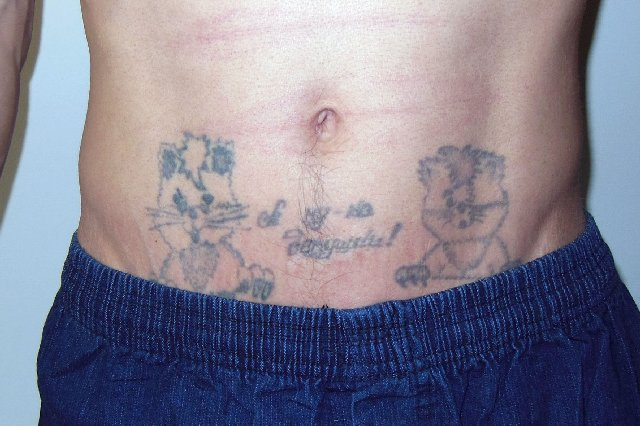tatu3_bukva: (260, 197, 404, 263)
tatu8_kot: (146, 130, 273, 311), (401, 139, 525, 279)
